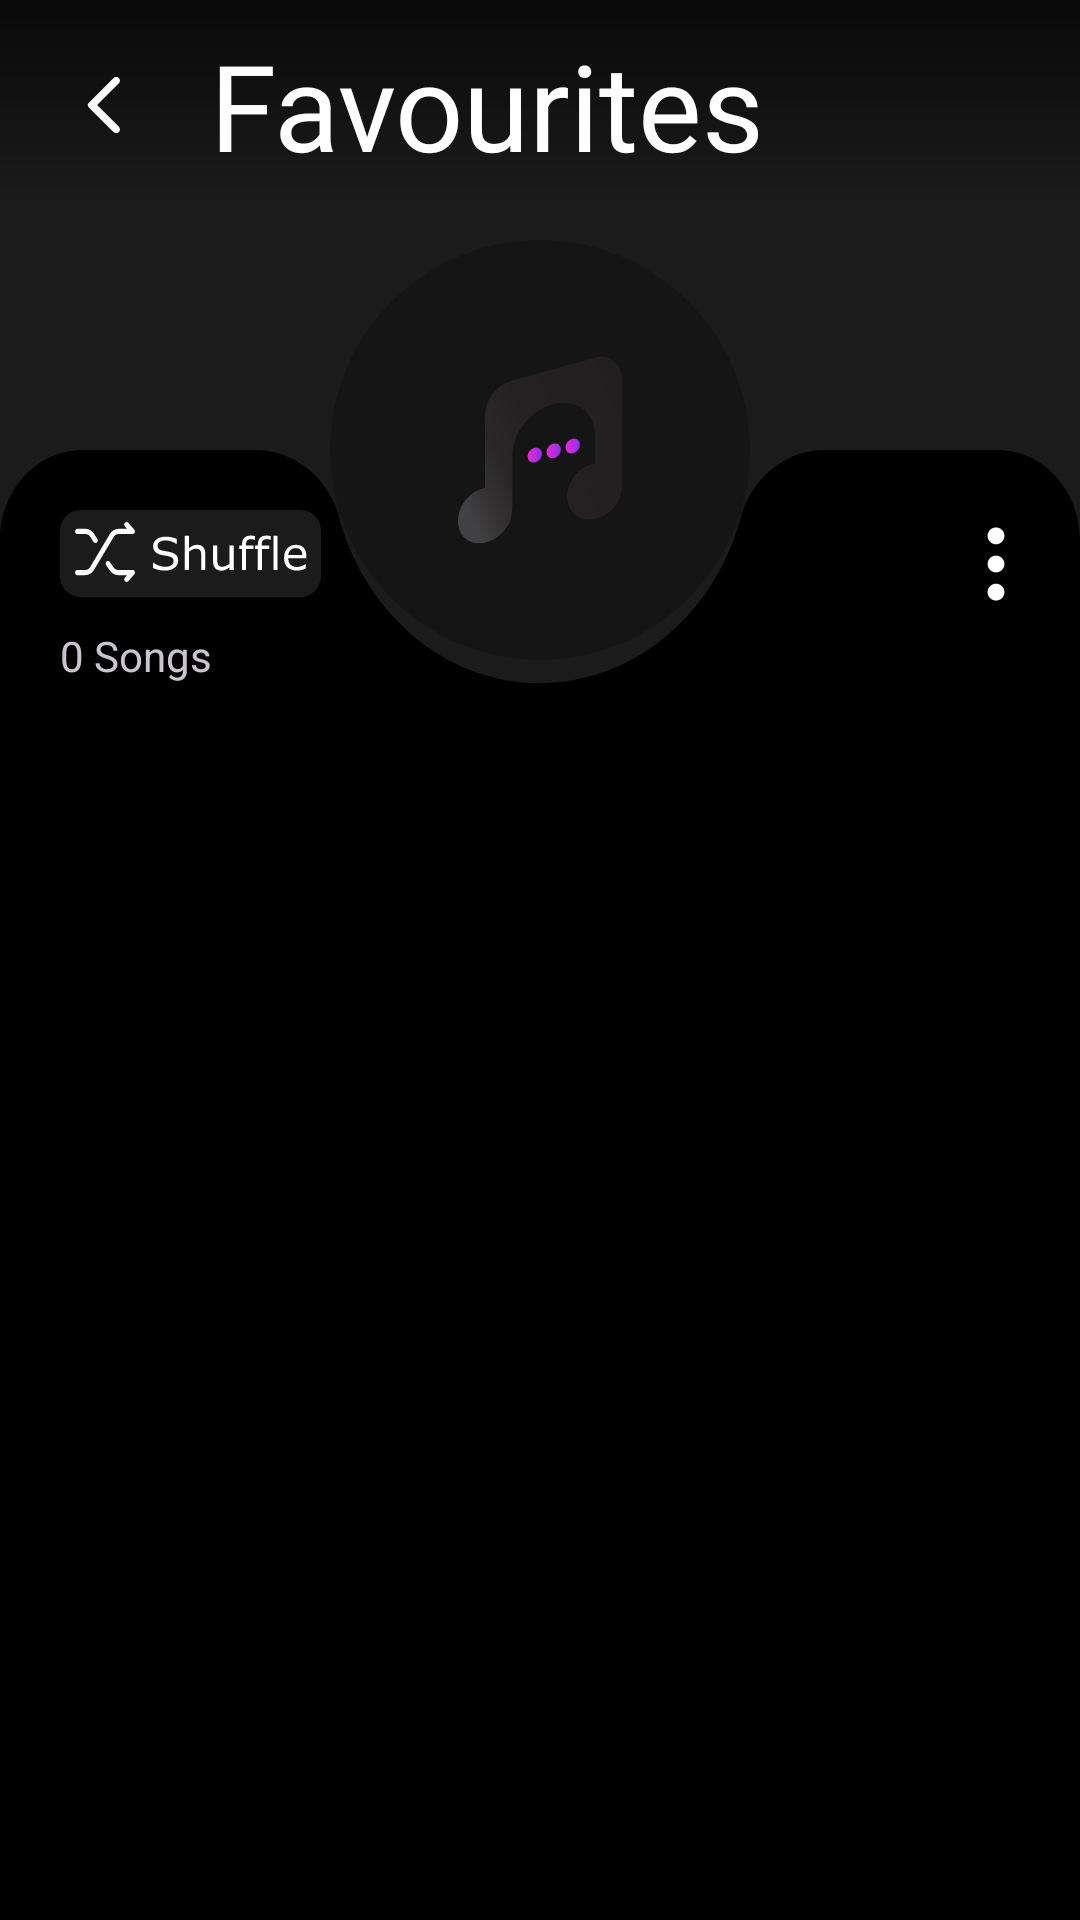

Where icons sit on this 1080*1920 app screen, as (left=x1, top=y1, right=x2, bottom=y2):
three dots: (left=987, top=527, right=1005, bottom=601)
